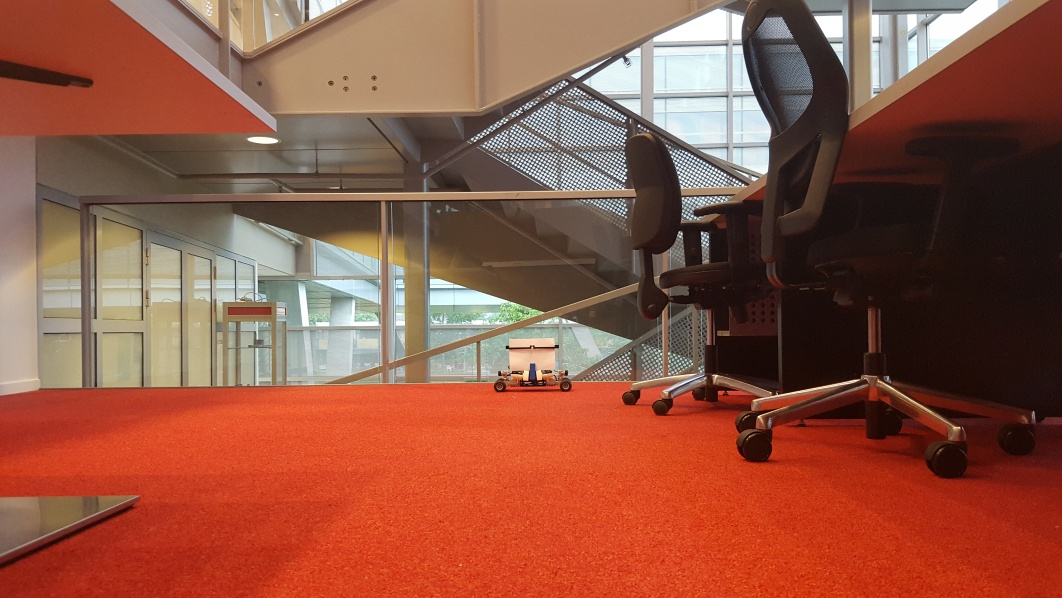car: (492, 337, 573, 393)
